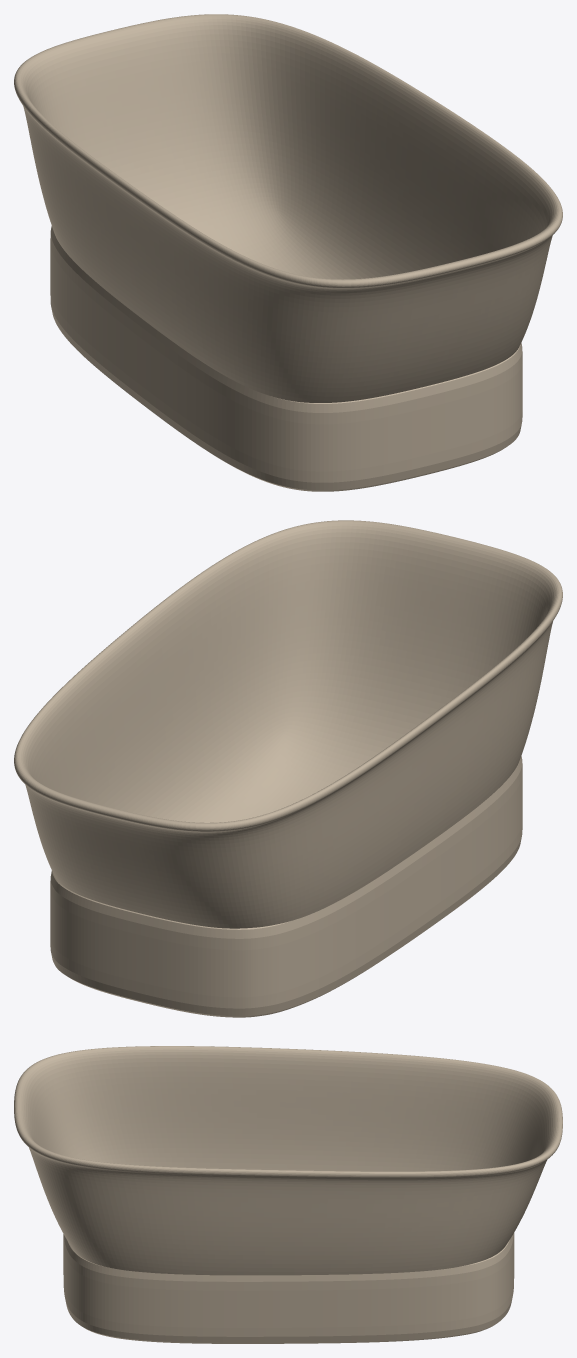
Rendered from 3dcodebench_Bathtub_seed0.glb.
3 renders of one model, top to bottom at view 1: azimuth 30°, elevation 25°; view 2: azimuth 150°, elevation 25°; view 3: azimuth 270°, elevation 25°, orthographic. The views are drawn at different scales.
Visible parts, largest first — view 1: object; view 2: object; view 3: object.
Part boxes in pixels (x1,y1,x2,y2): object: (14,14,562,491); object: (14,520,562,1017); object: (14,1046,562,1343).
Size of the model in its own units: 0.9623 by 0.6745 by 1.79.
